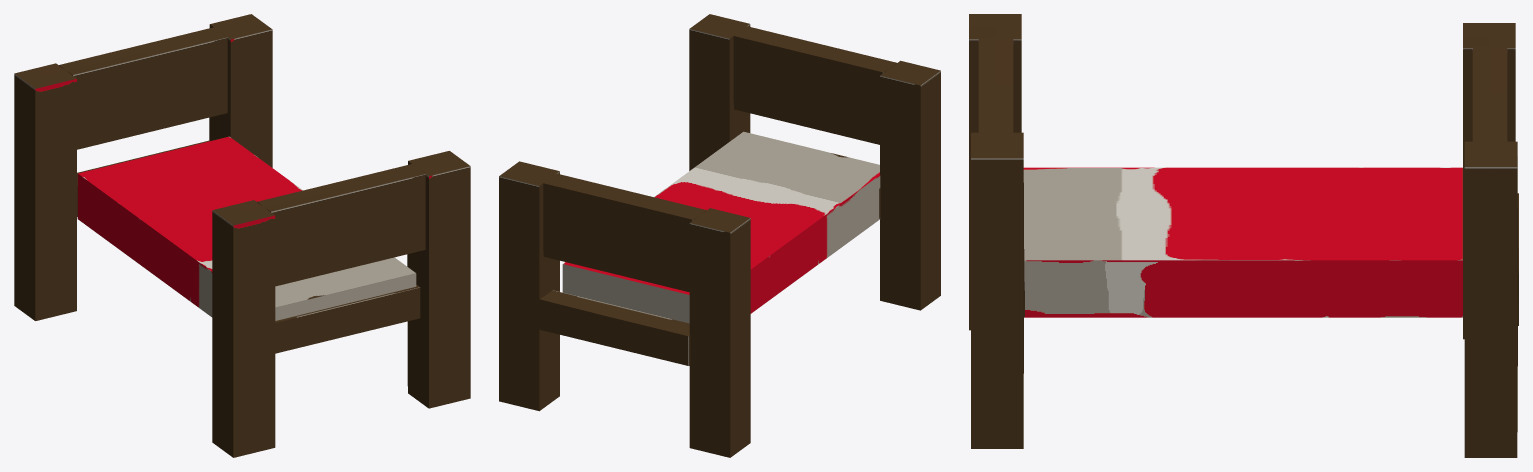
Rendered from cama.glb.
The picture shows the model from 3 angles, left to right: view 1: azimuth 30°, elevation 25°; view 2: azimuth 150°, elevation 25°; view 3: azimuth 270°, elevation 25°; orthographic projection. The views are drawn at different scales.
Visible parts, largest first — view 1: colchon; view 2: colchon; view 3: colchon.
Part boxes in pixels (box(x1,y1,x2,y2)): colchon: box(14, 14, 470, 457); colchon: box(499, 14, 940, 457); colchon: box(969, 14, 1518, 457).
Bounding box in the file's own units: 1.91 × 1.84 × 3.04.
Materials: 1 (1 with a texture image).
